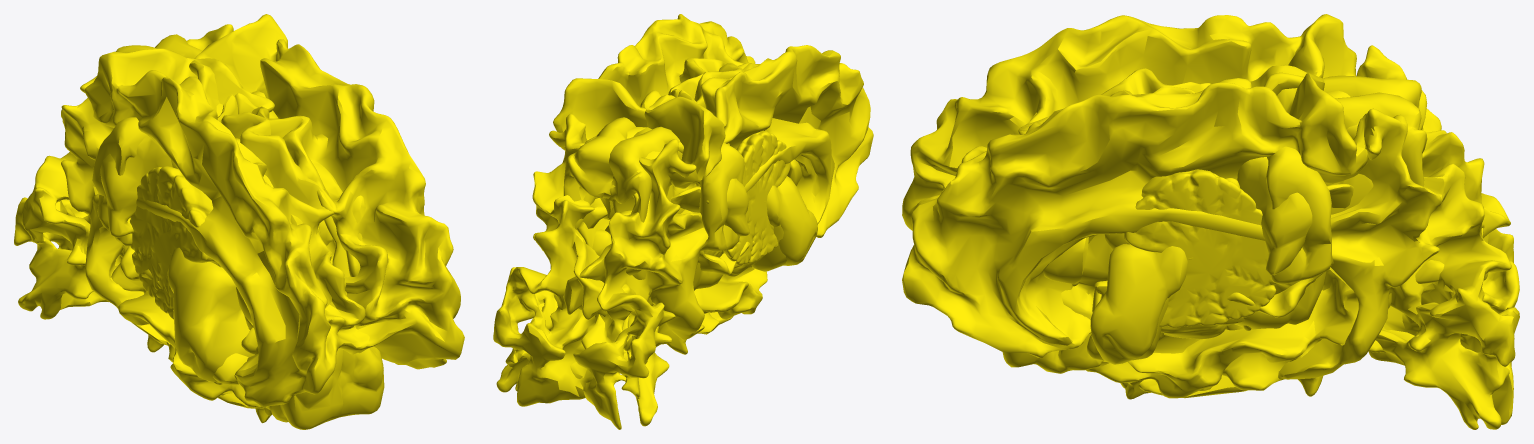
Rendered from nervous.glb.
The picture shows the model from 3 angles, left to right: view 1: azimuth 30°, elevation 25°; view 2: azimuth 150°, elevation 25°; view 3: azimuth 270°, elevation 25°; orthographic projection. The views are drawn at different scales.
Visible parts, largest first — view 1: white_matter_of_left_cerebral_hemisphere, white_matter_of_right_cerebral_hemisphere, right_postcentral_gyrus, cerebellum, right_superior_frontal_gyrus, left_postcentral_gyrus, left_superior_frontal_gyrus, left_precentral_gyrus, right_cingulate_gyrus, right_precentral_gyrus; view 2: white_matter_of_left_cerebral_hemisphere, white_matter_of_right_cerebral_hemisphere, cerebellum, right_superior_frontal_gyrus, left_superior_frontal_gyrus, left_precentral_gyrus, right_postcentral_gyrus, left_postcentral_gyrus, right_precentral_gyrus, left_occipital_lobe, right_cingulate_gyrus; view 3: white_matter_of_right_cerebral_hemisphere, white_matter_of_left_cerebral_hemisphere, cerebellum, left_postcentral_gyrus, right_superior_frontal_gyrus, right_precentral_gyrus, right_postcentral_gyrus, left_superior_frontal_gyrus, right_occipital_lobe, right_inferior_temporal_gyrus.
Boxes of the visible parts, <box> form: white_matter_of_left_cerebral_hemisphere: <box>14,48,369,416</box>; white_matter_of_right_cerebral_hemisphere: <box>111,14,464,423</box>; right_postcentral_gyrus: <box>167,247,254,381</box>; cerebellum: <box>130,166,222,319</box>; right_superior_frontal_gyrus: <box>155,34,384,417</box>; left_postcentral_gyrus: <box>100,136,172,237</box>; left_superior_frontal_gyrus: <box>115,45,343,429</box>; left_precentral_gyrus: <box>92,117,147,246</box>; right_cingulate_gyrus: <box>311,160,365,295</box>; right_precentral_gyrus: <box>213,91,265,384</box>; white_matter_of_left_cerebral_hemisphere: <box>563,45,873,429</box>; white_matter_of_right_cerebral_hemisphere: <box>493,14,767,406</box>; cerebellum: <box>697,130,790,276</box>; right_superior_frontal_gyrus: <box>563,106,660,229</box>; left_superior_frontal_gyrus: <box>585,126,685,275</box>; left_precentral_gyrus: <box>699,142,744,251</box>; right_postcentral_gyrus: <box>766,176,817,265</box>; left_postcentral_gyrus: <box>696,143,749,236</box>; right_precentral_gyrus: <box>562,158,786,271</box>; left_occipital_lobe: <box>692,184,722,290</box>; right_cingulate_gyrus: <box>583,198,607,228</box>; white_matter_of_right_cerebral_hemisphere: <box>902,65,1519,429</box>; white_matter_of_left_cerebral_hemisphere: <box>902,14,1519,399</box>; cerebellum: <box>1124,169,1315,339</box>; left_postcentral_gyrus: <box>1090,244,1187,364</box>; right_superior_frontal_gyrus: <box>1002,90,1427,373</box>; right_precentral_gyrus: <box>1265,146,1333,284</box>; right_postcentral_gyrus: <box>1237,157,1312,275</box>; left_superior_frontal_gyrus: <box>1322,75,1427,171</box>; right_occipital_lobe: <box>1226,178,1326,329</box>; right_inferior_temporal_gyrus: <box>1043,237,1088,283</box>.
Size of the model in its own units: 2350220 by 3564194 by 5753667.
